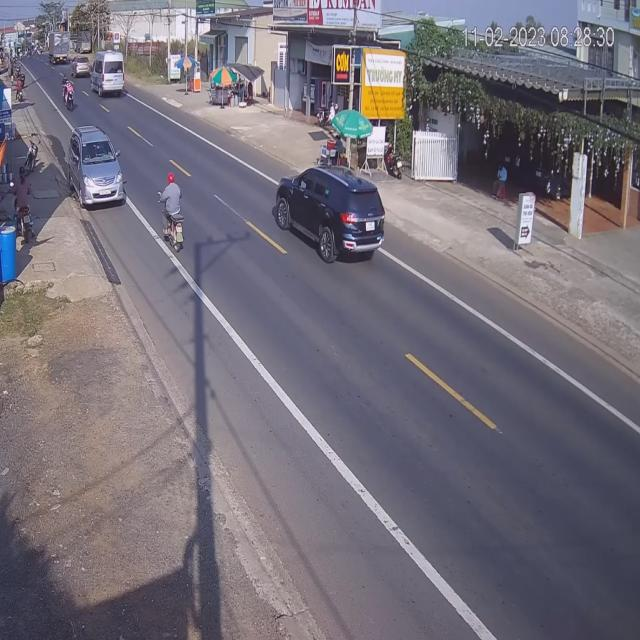bus: (89, 50, 123, 97)
car: (277, 163, 389, 265), (68, 124, 124, 208), (73, 57, 90, 81)
motorbike: (159, 175, 185, 256), (64, 82, 76, 111)
